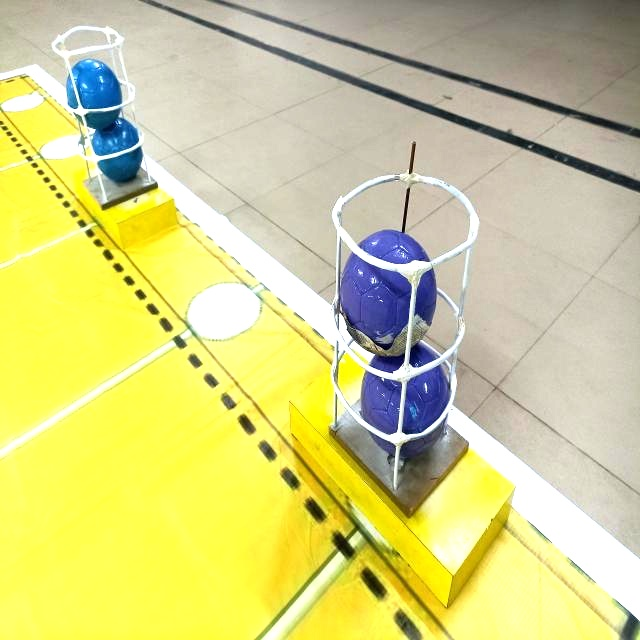blue_ball: (62, 58, 126, 136), (90, 118, 144, 176)
purple_ball: (334, 230, 437, 350), (355, 343, 454, 463)
silo: (334, 148, 483, 477), (45, 21, 152, 192)
